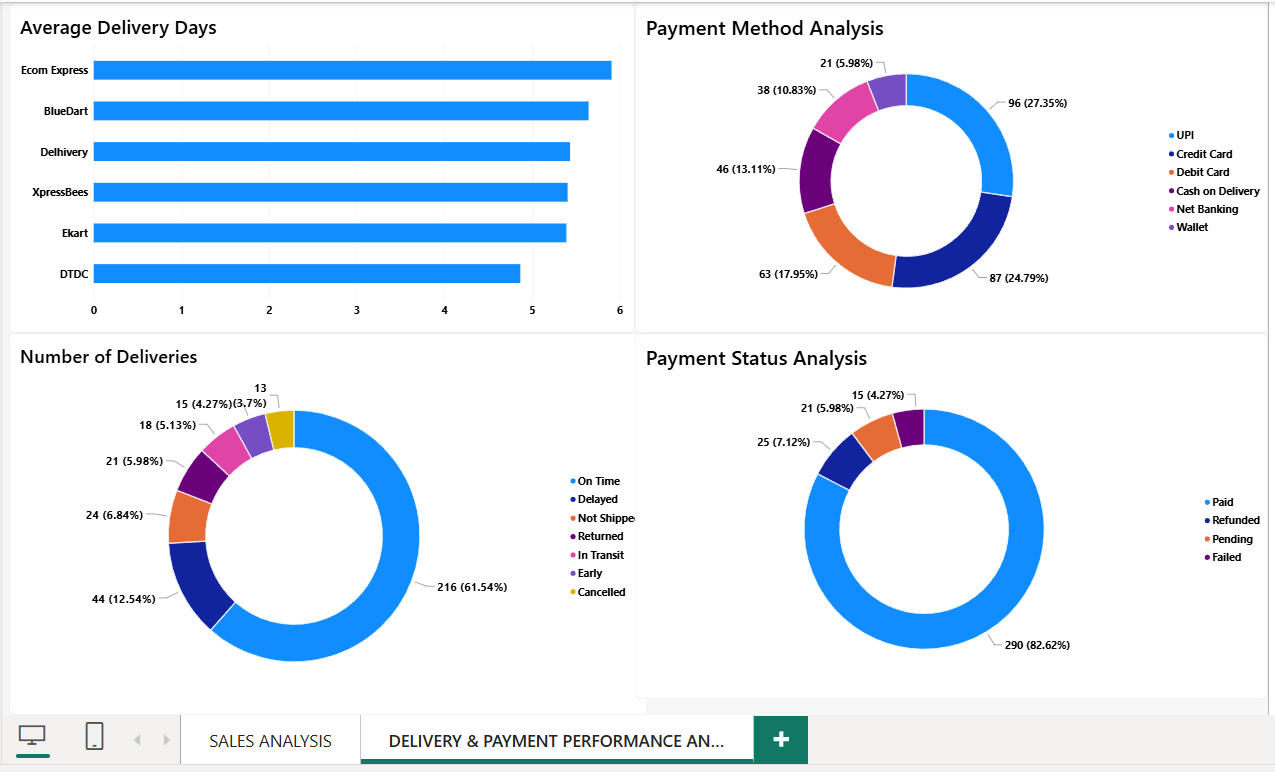

Layout of this report page (visuals, bound fields, positions):
{"tool":"powerbi","page":{"name":"DELIVERY & PAYMENT PERFORMANCE ANALYSIS","canvas":[1920,1080],"ordinal":1},"visuals":[{"type":"clusteredBarChart","title":"Average Delivery Days","fields":{"Category":["Deliveries.delivery_partner"],"Y":["Avg(Deliveries.actual_delivery_days)"]},"box":[10.8,0,948.6,500],"z":0},{"type":"donutChart","title":"Number of Deliveries","fields":{"Category":["Deliveries.delivery_status"],"Y":["CountNonNull(Deliveries.delivery_id)"]},"box":[10.8,500,967.6,578.4],"z":1000},{"type":"donutChart","title":"Payment Method Analysis","fields":{"Category":["Payments.payment_method"],"Y":["CountNonNull(Payments.payment_id)"]},"box":[959.5,0,959.5,500],"z":2000},{"type":"donutChart","title":"Payment Status Analysis","fields":{"Category":["Payments.payment_status"],"Y":["CountNonNull(Payments.payment_id)"]},"box":[959.5,500,959.5,554.1],"z":3000}]}

Visuals, with their boxes on the page's 1920x1080 design canvas (x1, y1, x2, y2). These are canvas units, not pixel positions in the 1275x772 screenshot, which may show the page scaled, cropped or inside an application window:
"Average Delivery Days" clusteredBarChart: 11 0 959 500
"Number of Deliveries" donutChart: 11 500 978 1078
"Payment Method Analysis" donutChart: 960 0 1919 500
"Payment Status Analysis" donutChart: 960 500 1919 1054
